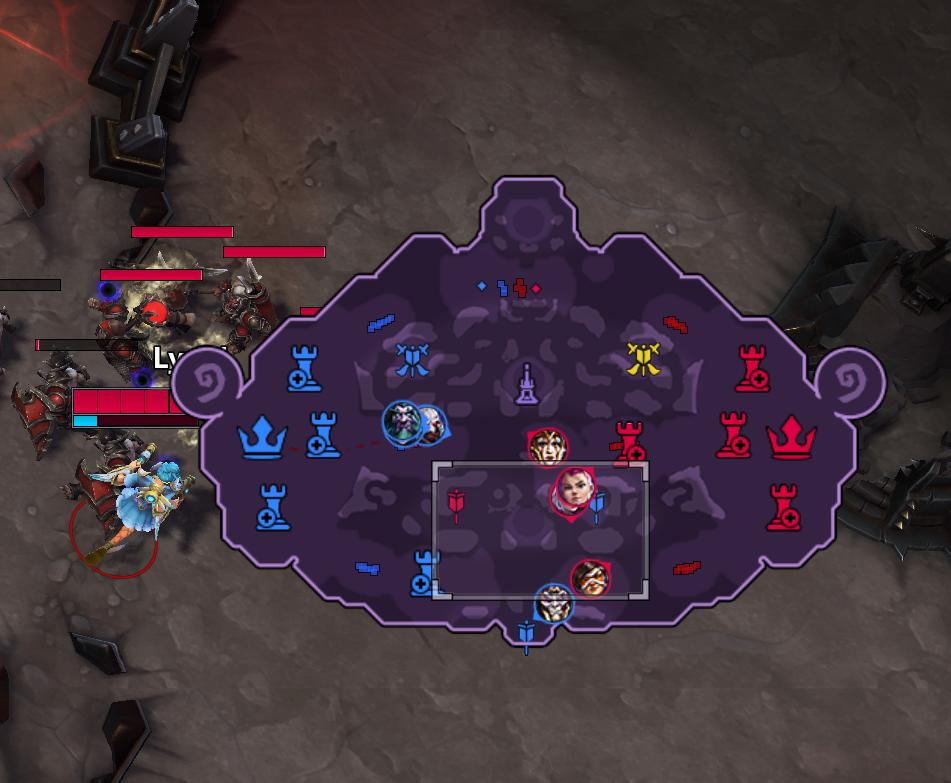blue player: (381, 398, 426, 449), (532, 581, 574, 626), (415, 403, 450, 446)
red player: (554, 467, 597, 508), (570, 558, 612, 599), (527, 427, 567, 464)
